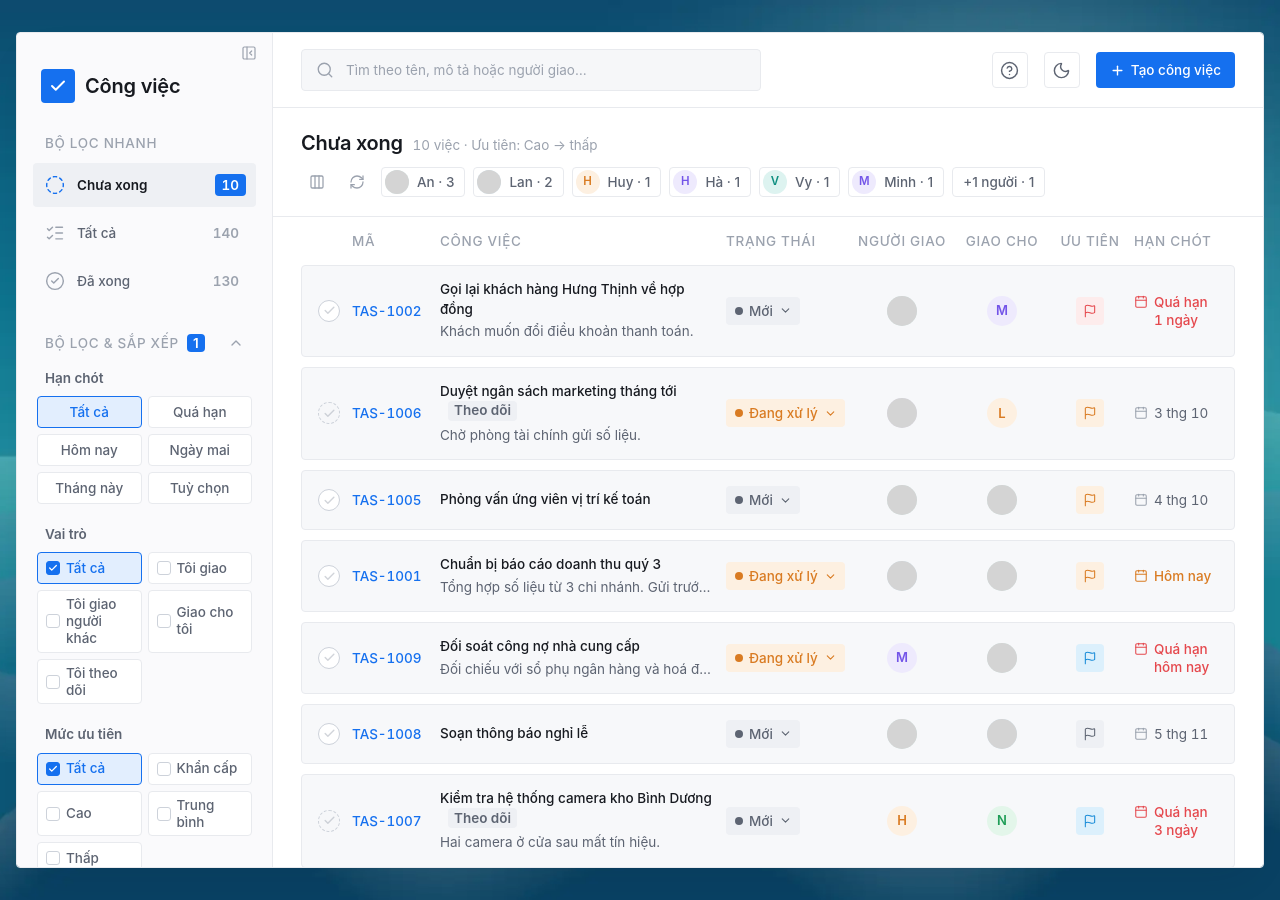
Test: detail popup (AC11, AC16, AC18, AC19) › shows several followers as stacked avatars, the first name and +N, everybody in the title
Click the 3rd text with class "desc".
click(577, 587)  # box x1=440 y1=577 x2=714 y2=597
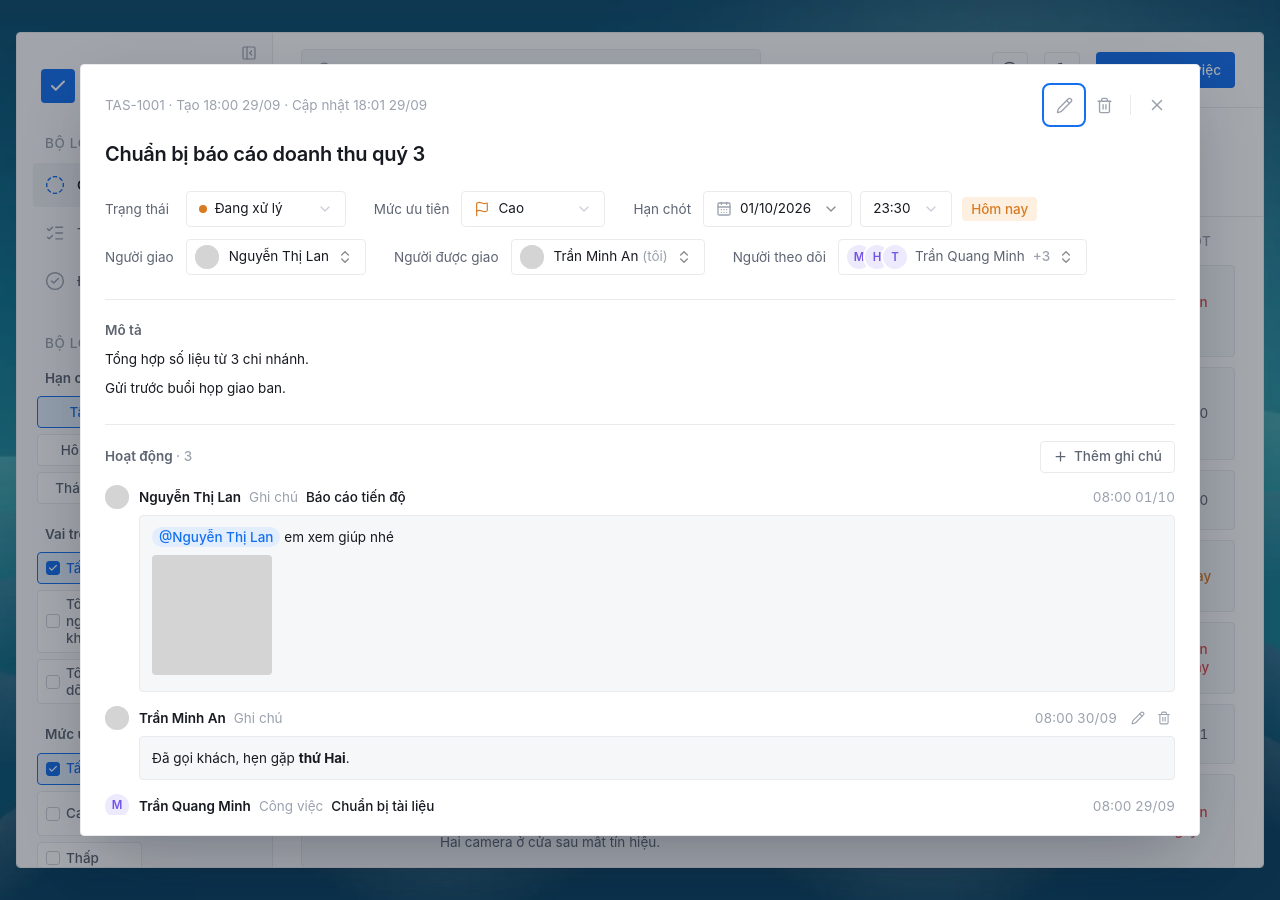
Now the text "+3" is shown, box x1=1033 y1=247 x2=1050 y2=267
